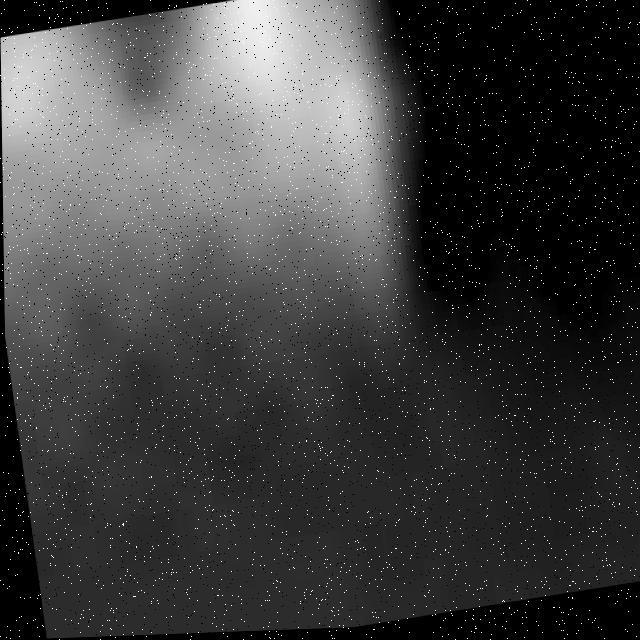person: (150, 1, 432, 333), (1, 15, 197, 475)
